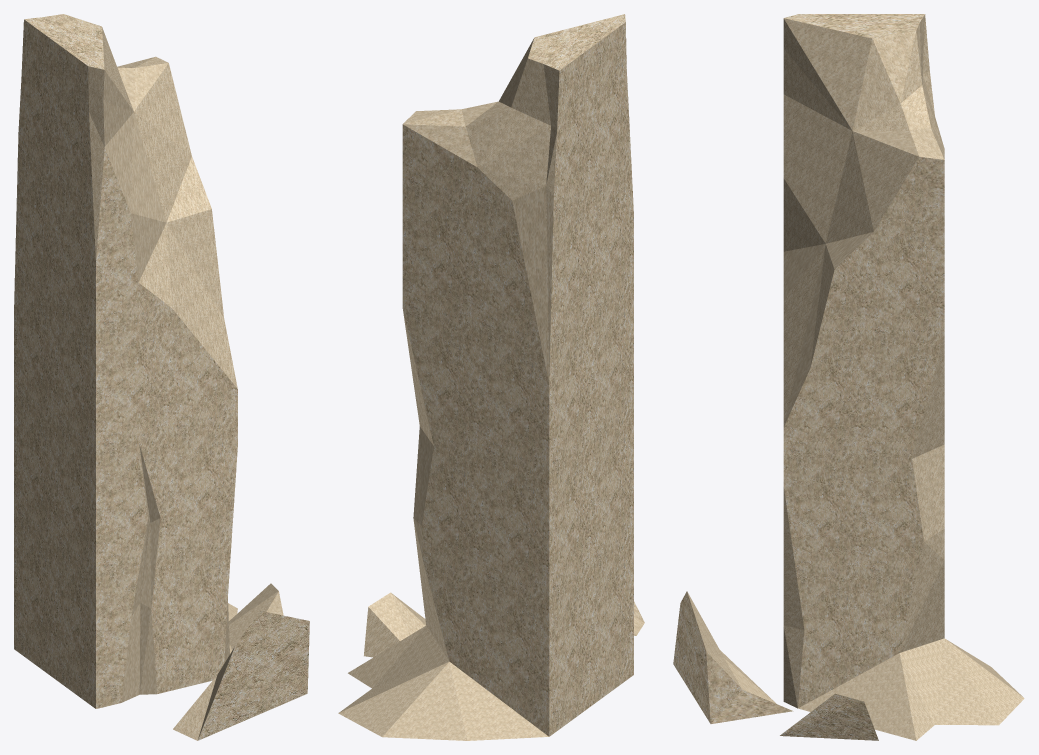
The model's file is thm_tato_imprv_pillar_ruin_s01_l0.fbx.
The picture shows the model from 3 angles, left to right: view 1: azimuth 30°, elevation 25°; view 2: azimuth 150°, elevation 25°; view 3: azimuth 270°, elevation 25°; orthographic projection. The views are drawn at different scales.
Visible parts, largest first — view 1: mesh_node; view 2: mesh_node; view 3: mesh_node.
Part boxes in pixels (x1,y1,x2,y2): mesh_node: (14, 14, 309, 740); mesh_node: (338, 14, 644, 740); mesh_node: (673, 14, 1024, 740).
Bounding box in the file's own units: 1.52 × 4.3 × 2.18.
